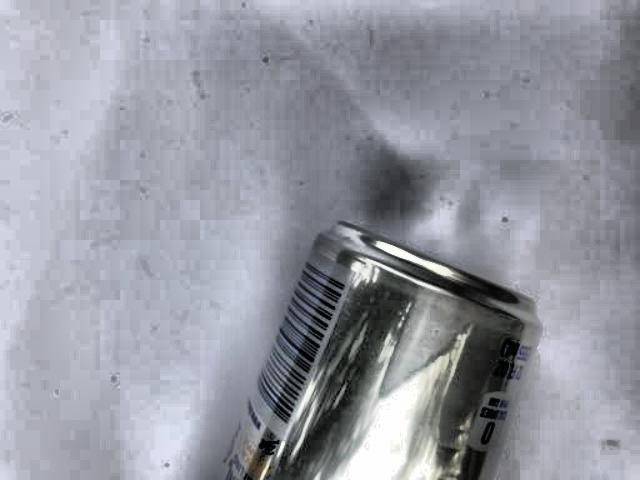Bottles: (216, 222, 546, 480)
